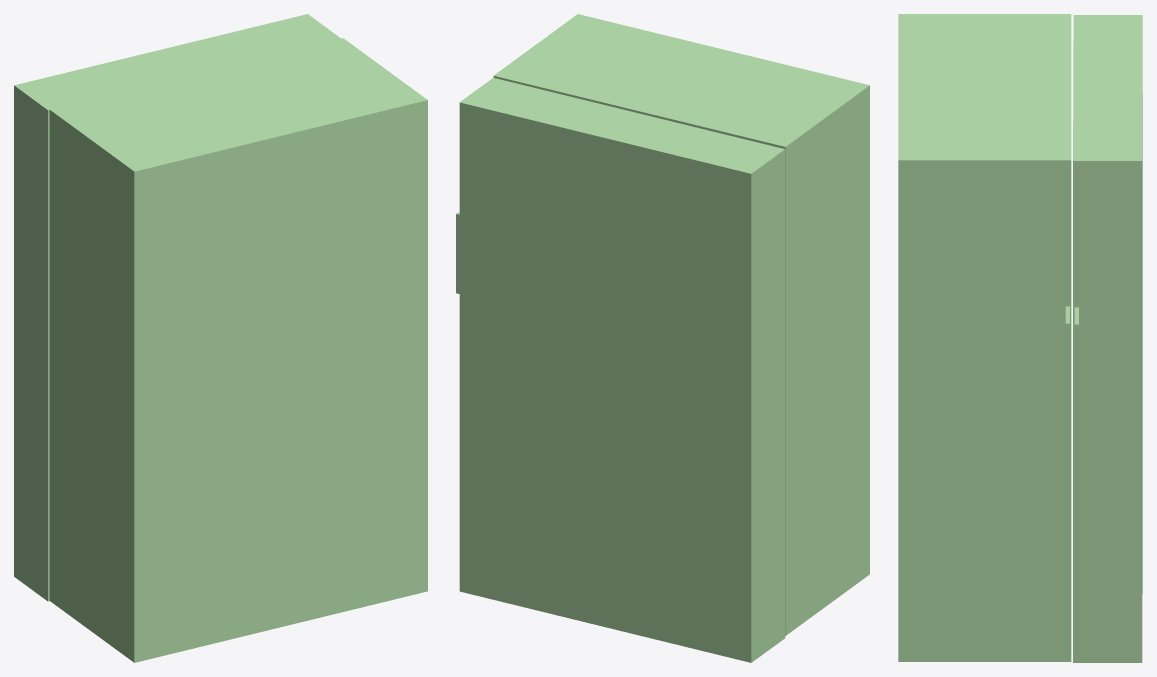
The model's file is Locker.fbx.
3 renders of one model, left to right at view 1: azimuth 30°, elevation 25°; view 2: azimuth 150°, elevation 25°; view 3: azimuth 270°, elevation 25°, orthographic. The views are drawn at different scales.
Parts seen in each view (by area): view 1: Cube, Cube.001; view 2: Cube.001, Cube; view 3: Cube, Cube.001.
Boxes of the visible parts, x1=… form: Cube: x1=49, y1=38, x2=427, y2=662; Cube.001: x1=14, y1=14, x2=340, y2=601; Cube.001: x1=456, y1=78, x2=785, y2=662; Cube: x1=493, y1=14, x2=869, y2=635; Cube: x1=898, y1=14, x2=1071, y2=661; Cube.001: x1=1073, y1=15, x2=1142, y2=662.
Bounding box in the file's own units: 224 × 321 × 141.
